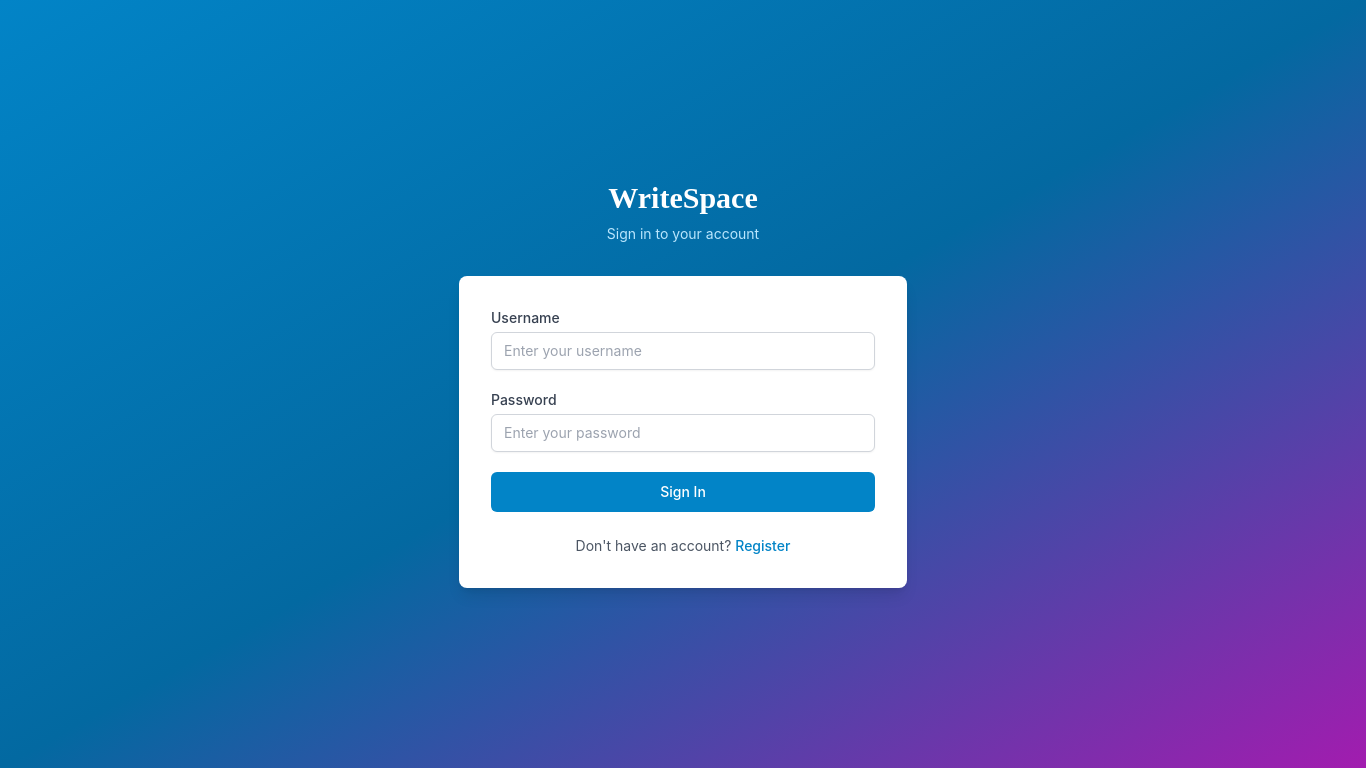
LoginPage › validation › shows error when username is empty
In the password field labelled "Password": (683,433) [491,414,875,452], type "somepassword"
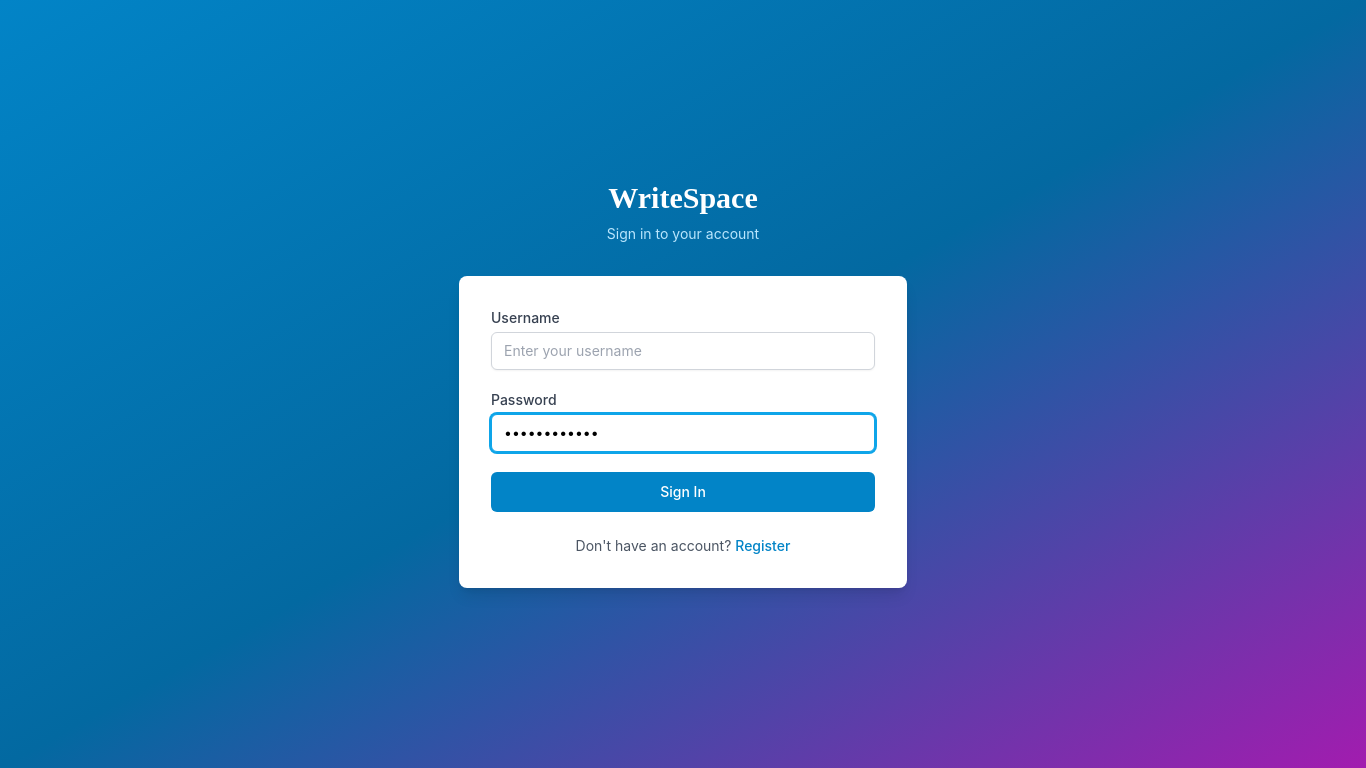
Click the button "Sign In": (683,492) [491,472,875,512]
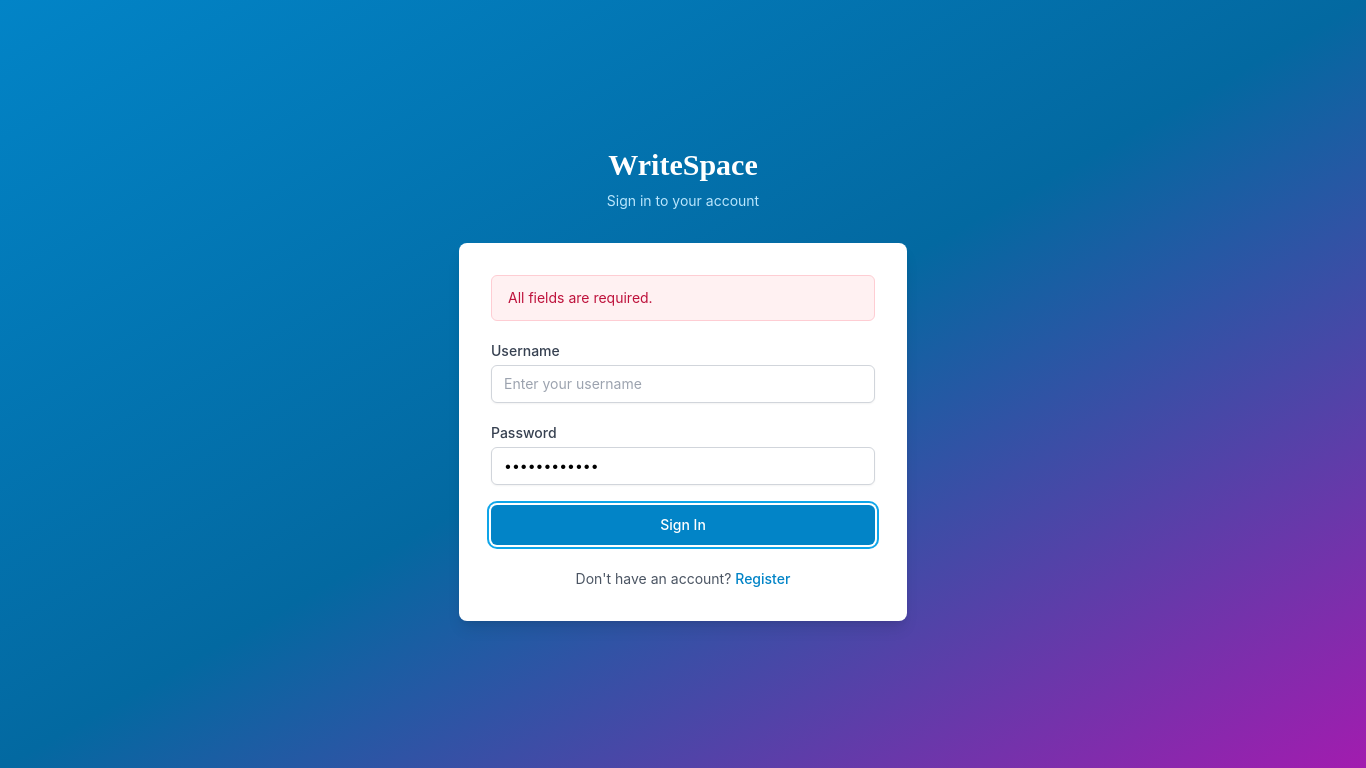
Check: the text "All fields are required." is shown, box [491,275,875,321]
